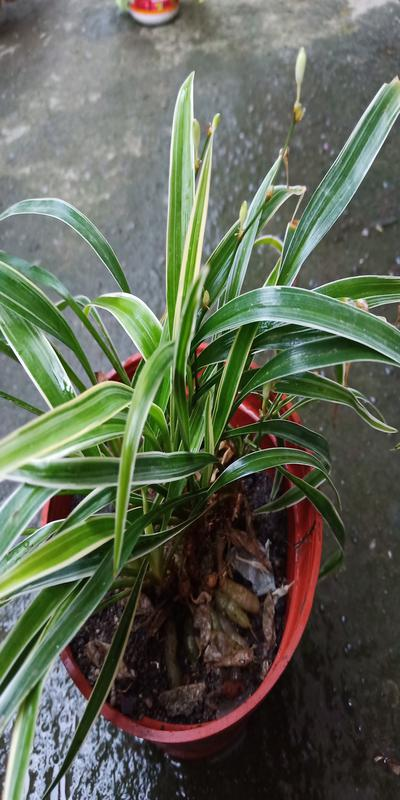Yellow and green leaf: (9, 197, 382, 656)
